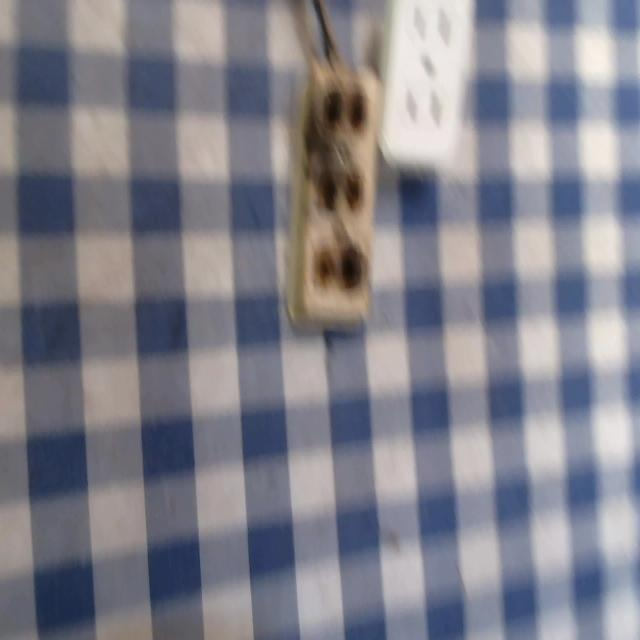-: (317, 78, 370, 134), (315, 157, 361, 219), (312, 243, 359, 296)
